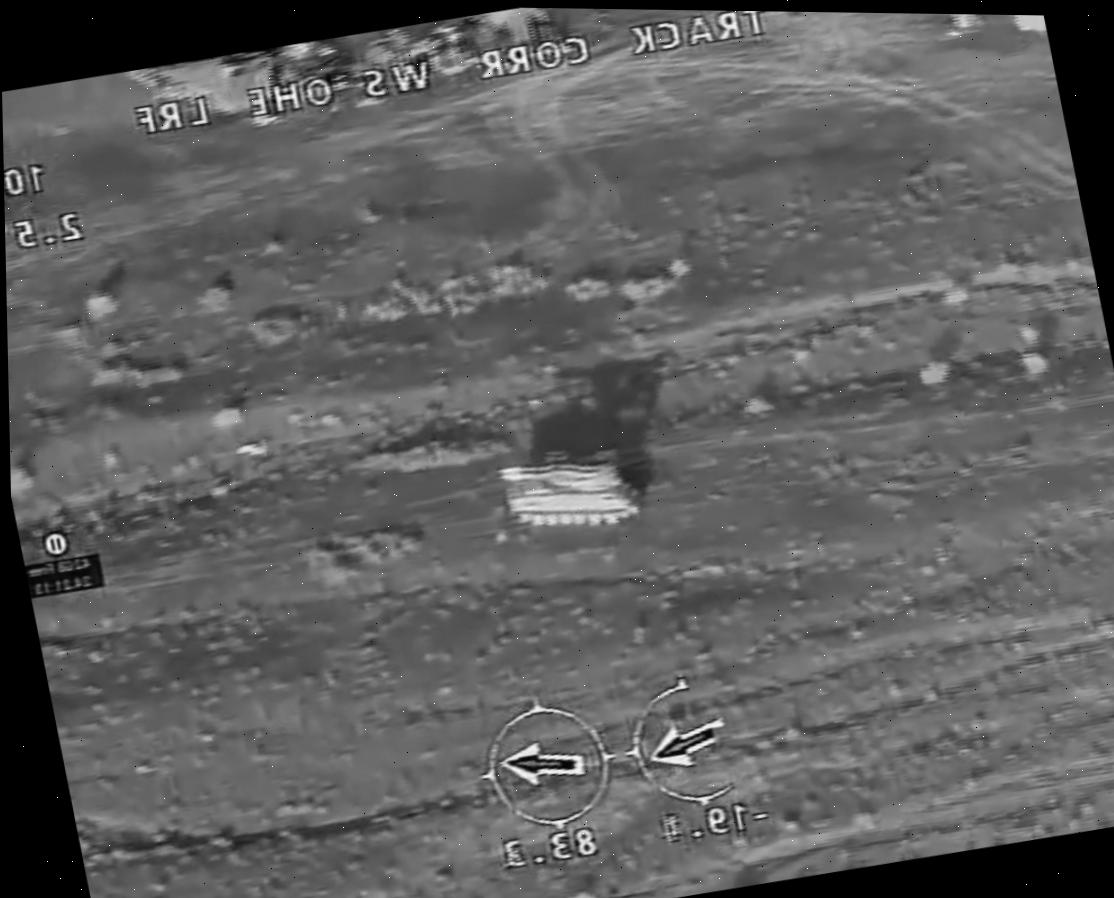armored_car: (489, 436, 651, 549)
